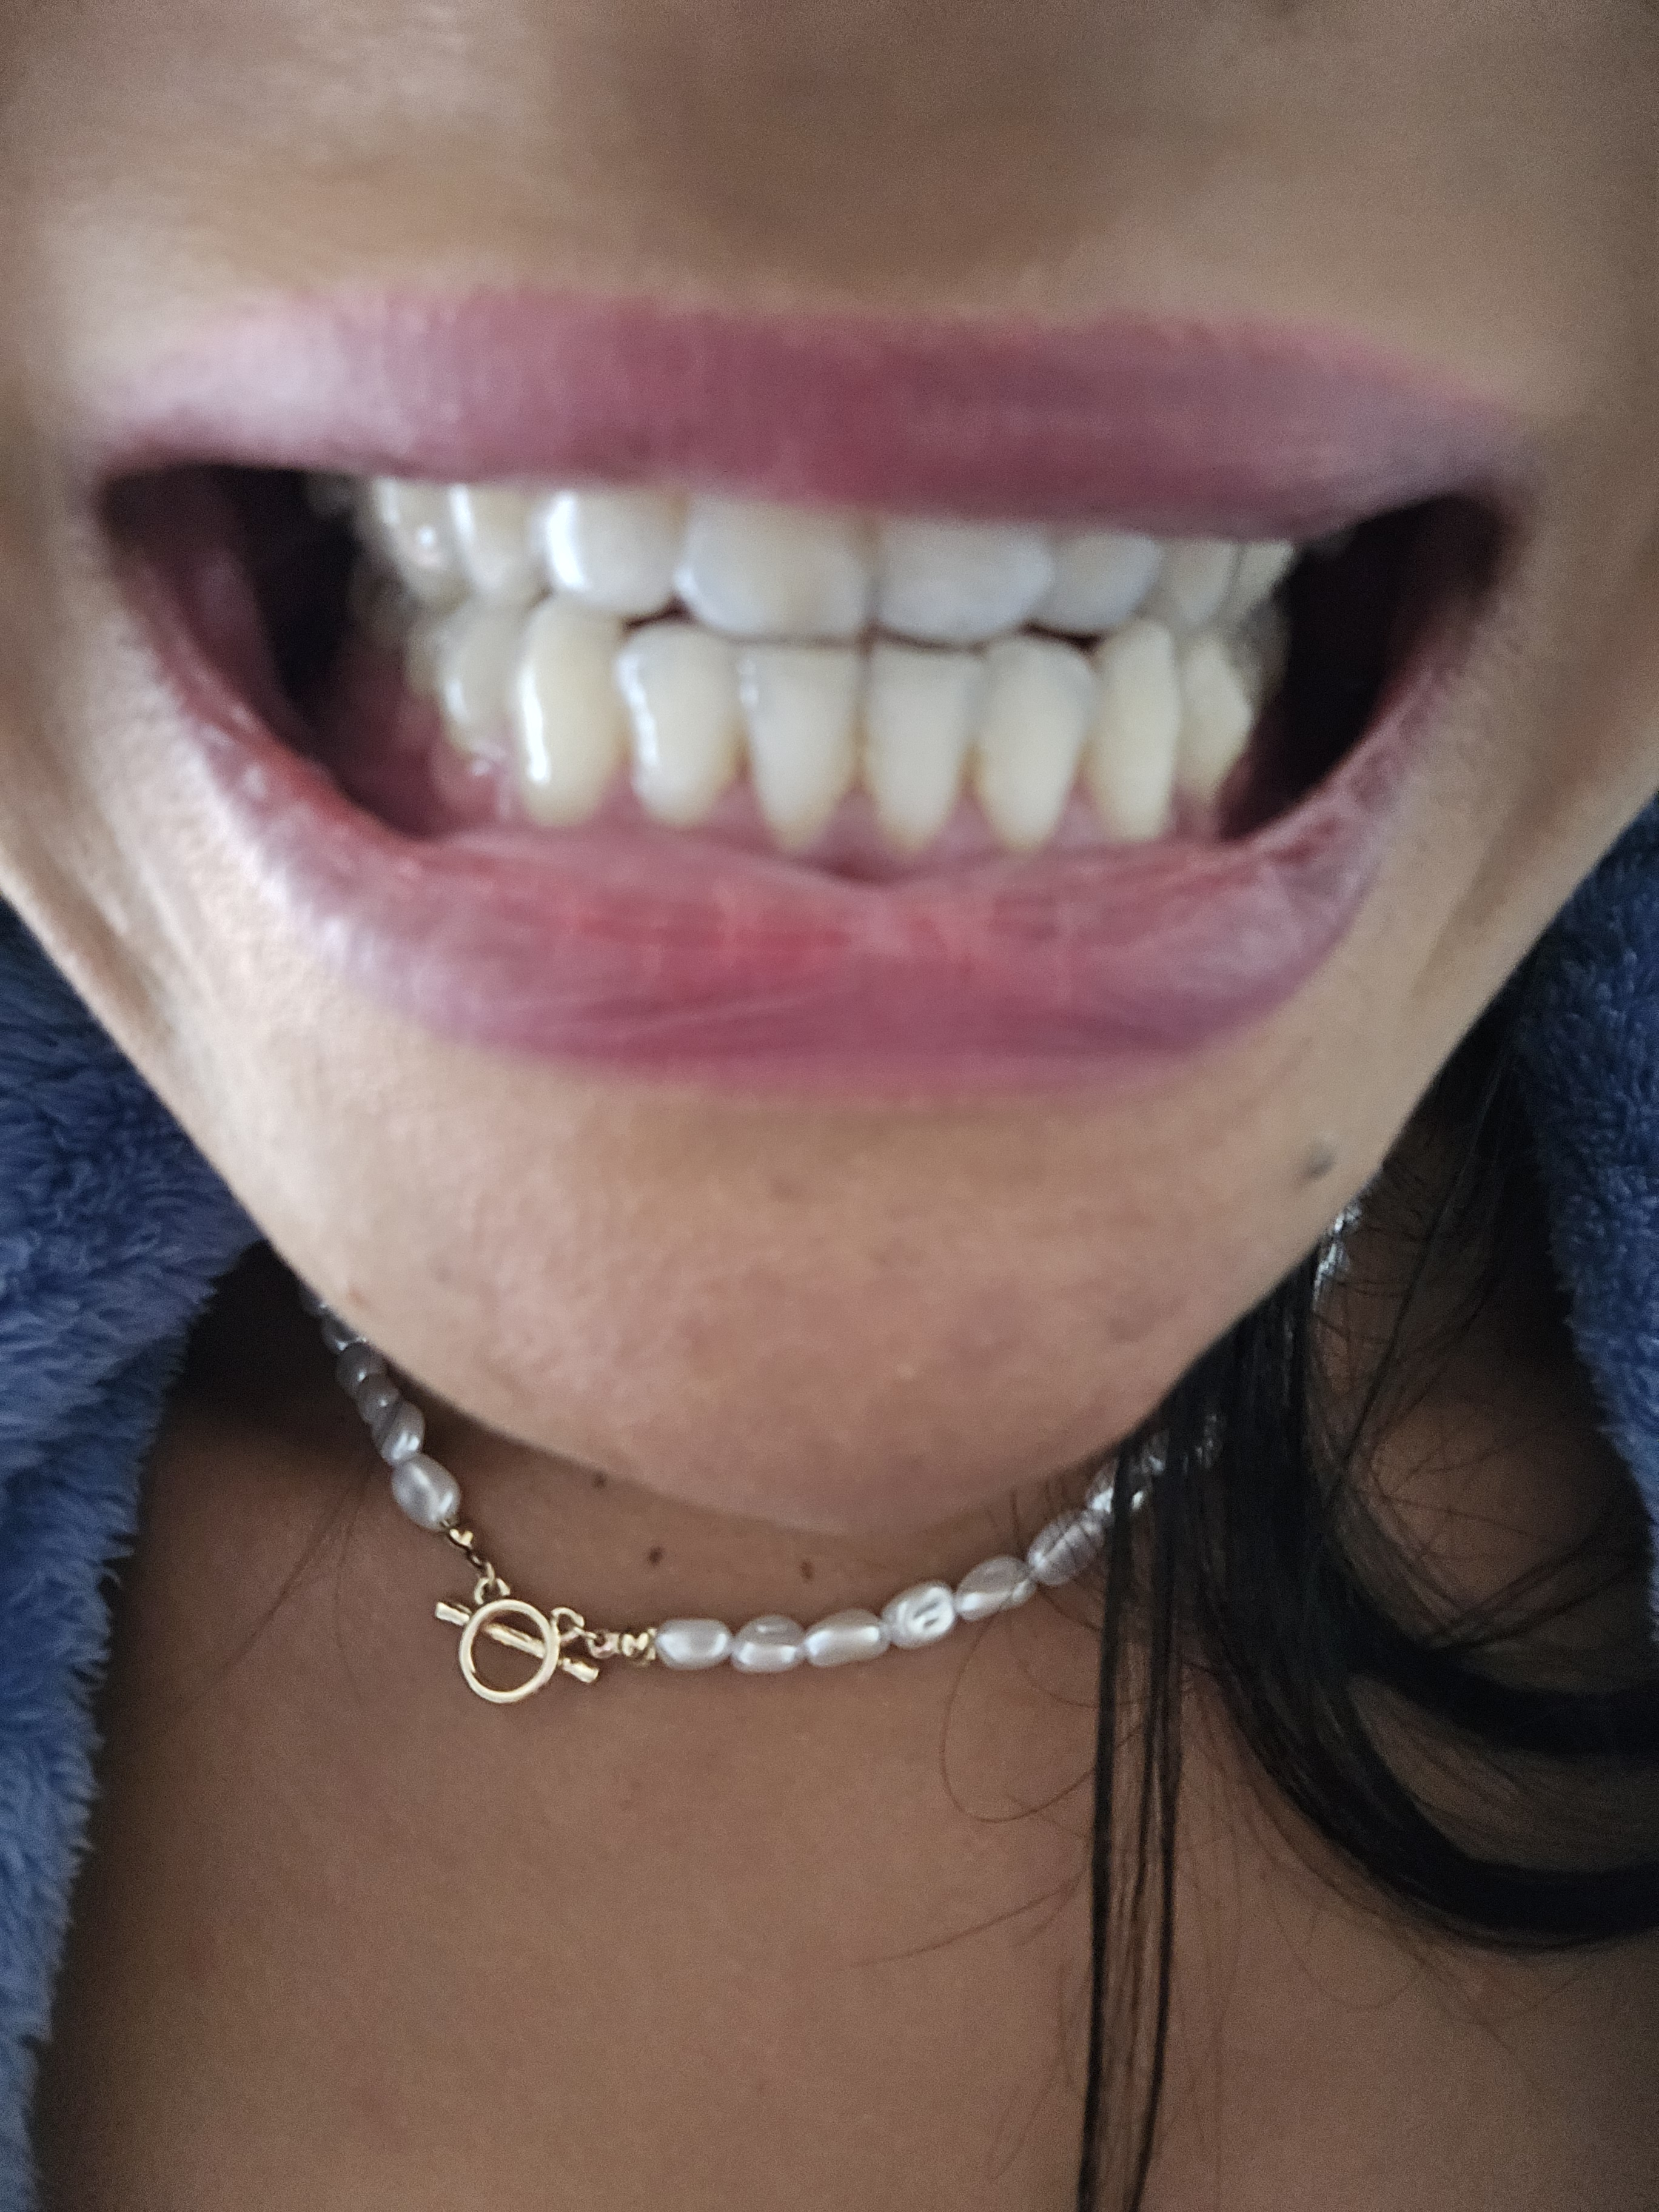teeth: (692, 502, 878, 646), (514, 596, 626, 817), (749, 641, 864, 855), (974, 641, 1091, 848), (622, 627, 742, 826), (868, 643, 974, 845), (887, 516, 1058, 637), (1096, 632, 1182, 831), (547, 488, 681, 610), (1037, 517, 1162, 627), (1183, 634, 1256, 810), (444, 611, 523, 758), (1159, 533, 1241, 643), (387, 477, 457, 606), (464, 477, 528, 606), (401, 603, 458, 711), (1232, 538, 1300, 627), (350, 479, 397, 585), (1263, 601, 1281, 711)
